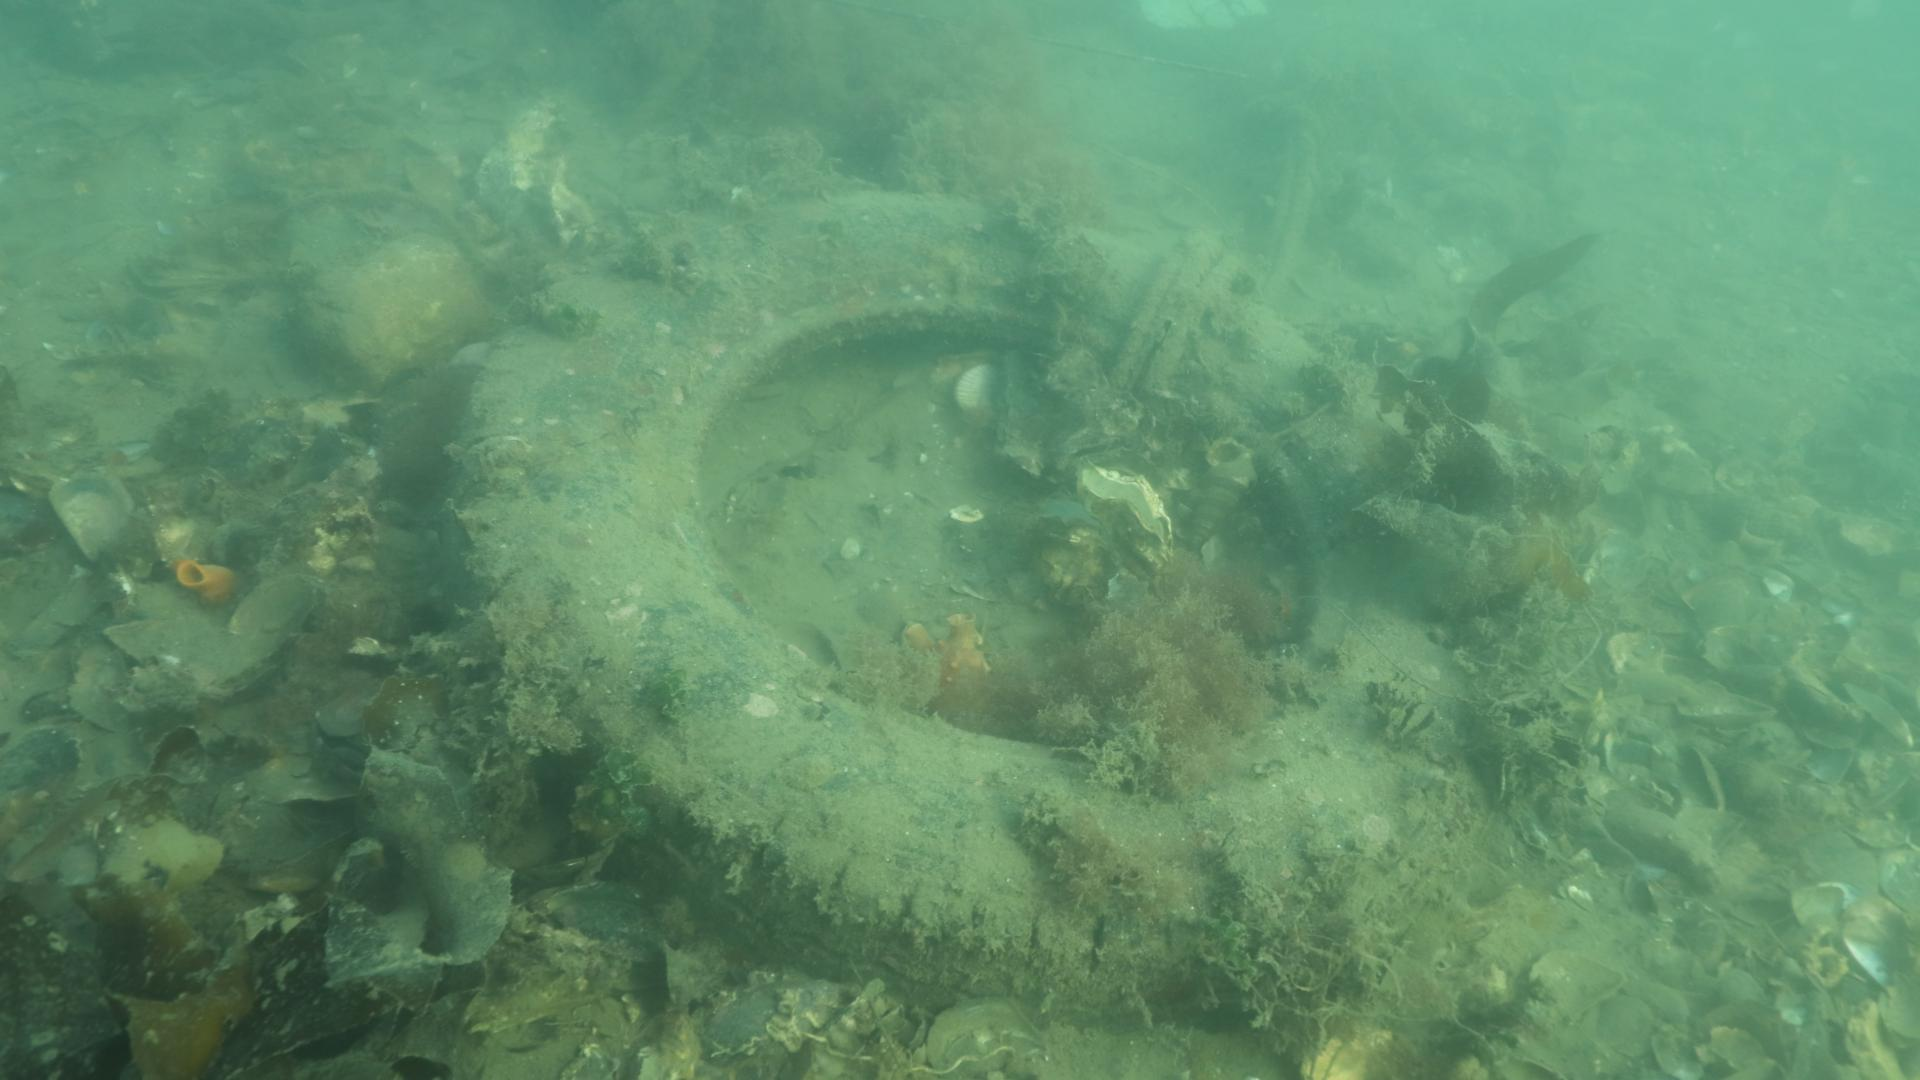tire: (456, 187, 1506, 1029)
